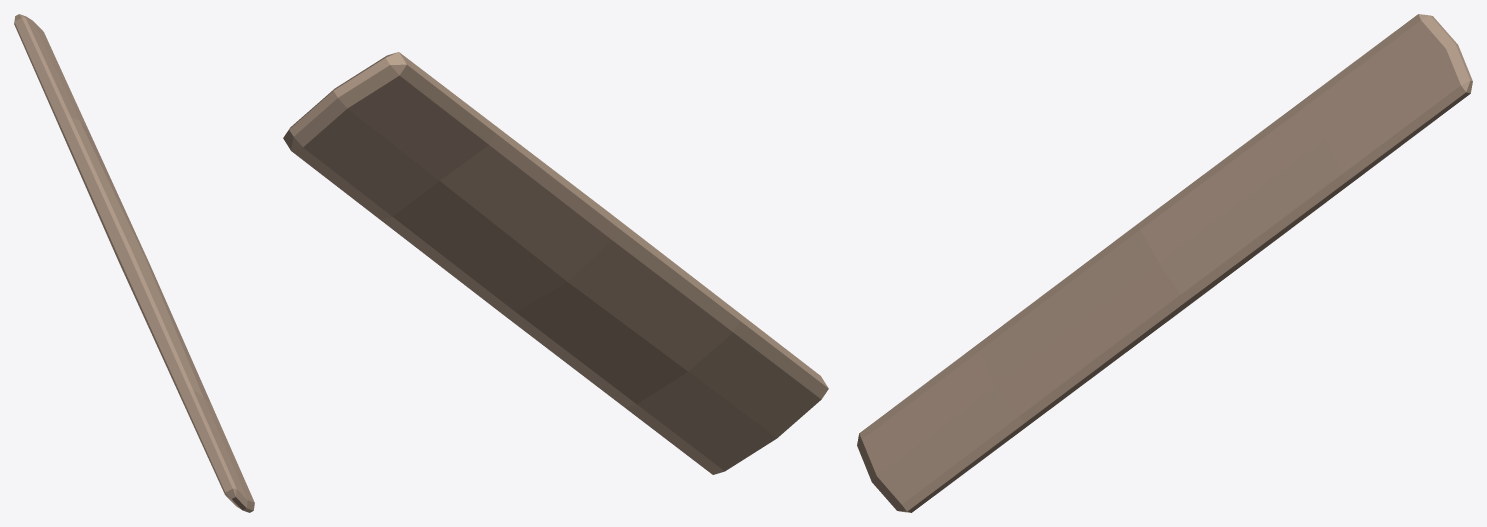
File: woodPlank.fbx
The picture shows the model from 3 angles, left to right: view 1: azimuth 30°, elevation 25°; view 2: azimuth 150°, elevation 25°; view 3: azimuth 270°, elevation 25°; orthographic projection. The views are drawn at different scales.
Visible parts, largest first — view 1: woodPlank; view 2: woodPlank; view 3: woodPlank.
Part boxes in pixels (box(x1,y1,x2,y2)): woodPlank: box(14, 14, 254, 512); woodPlank: box(283, 52, 828, 474); woodPlank: box(857, 14, 1472, 512).
Size of the model in its own units: 0.5622 by 4.1 by 4.8.
